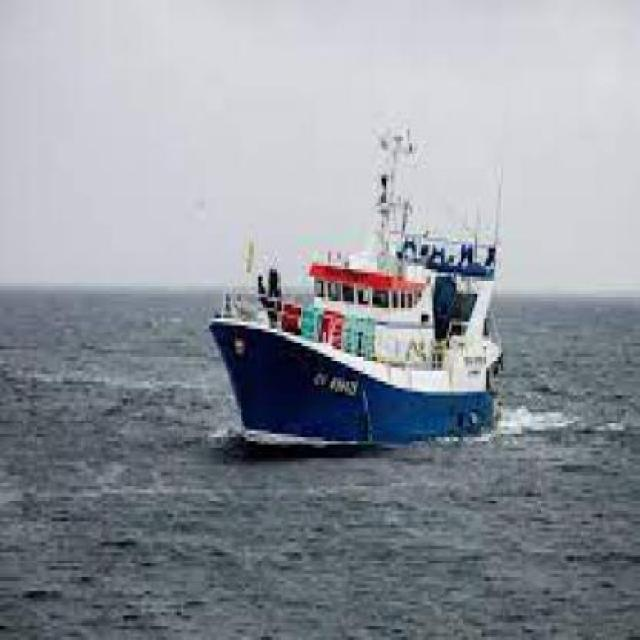fish-b: (210, 109, 523, 449)
